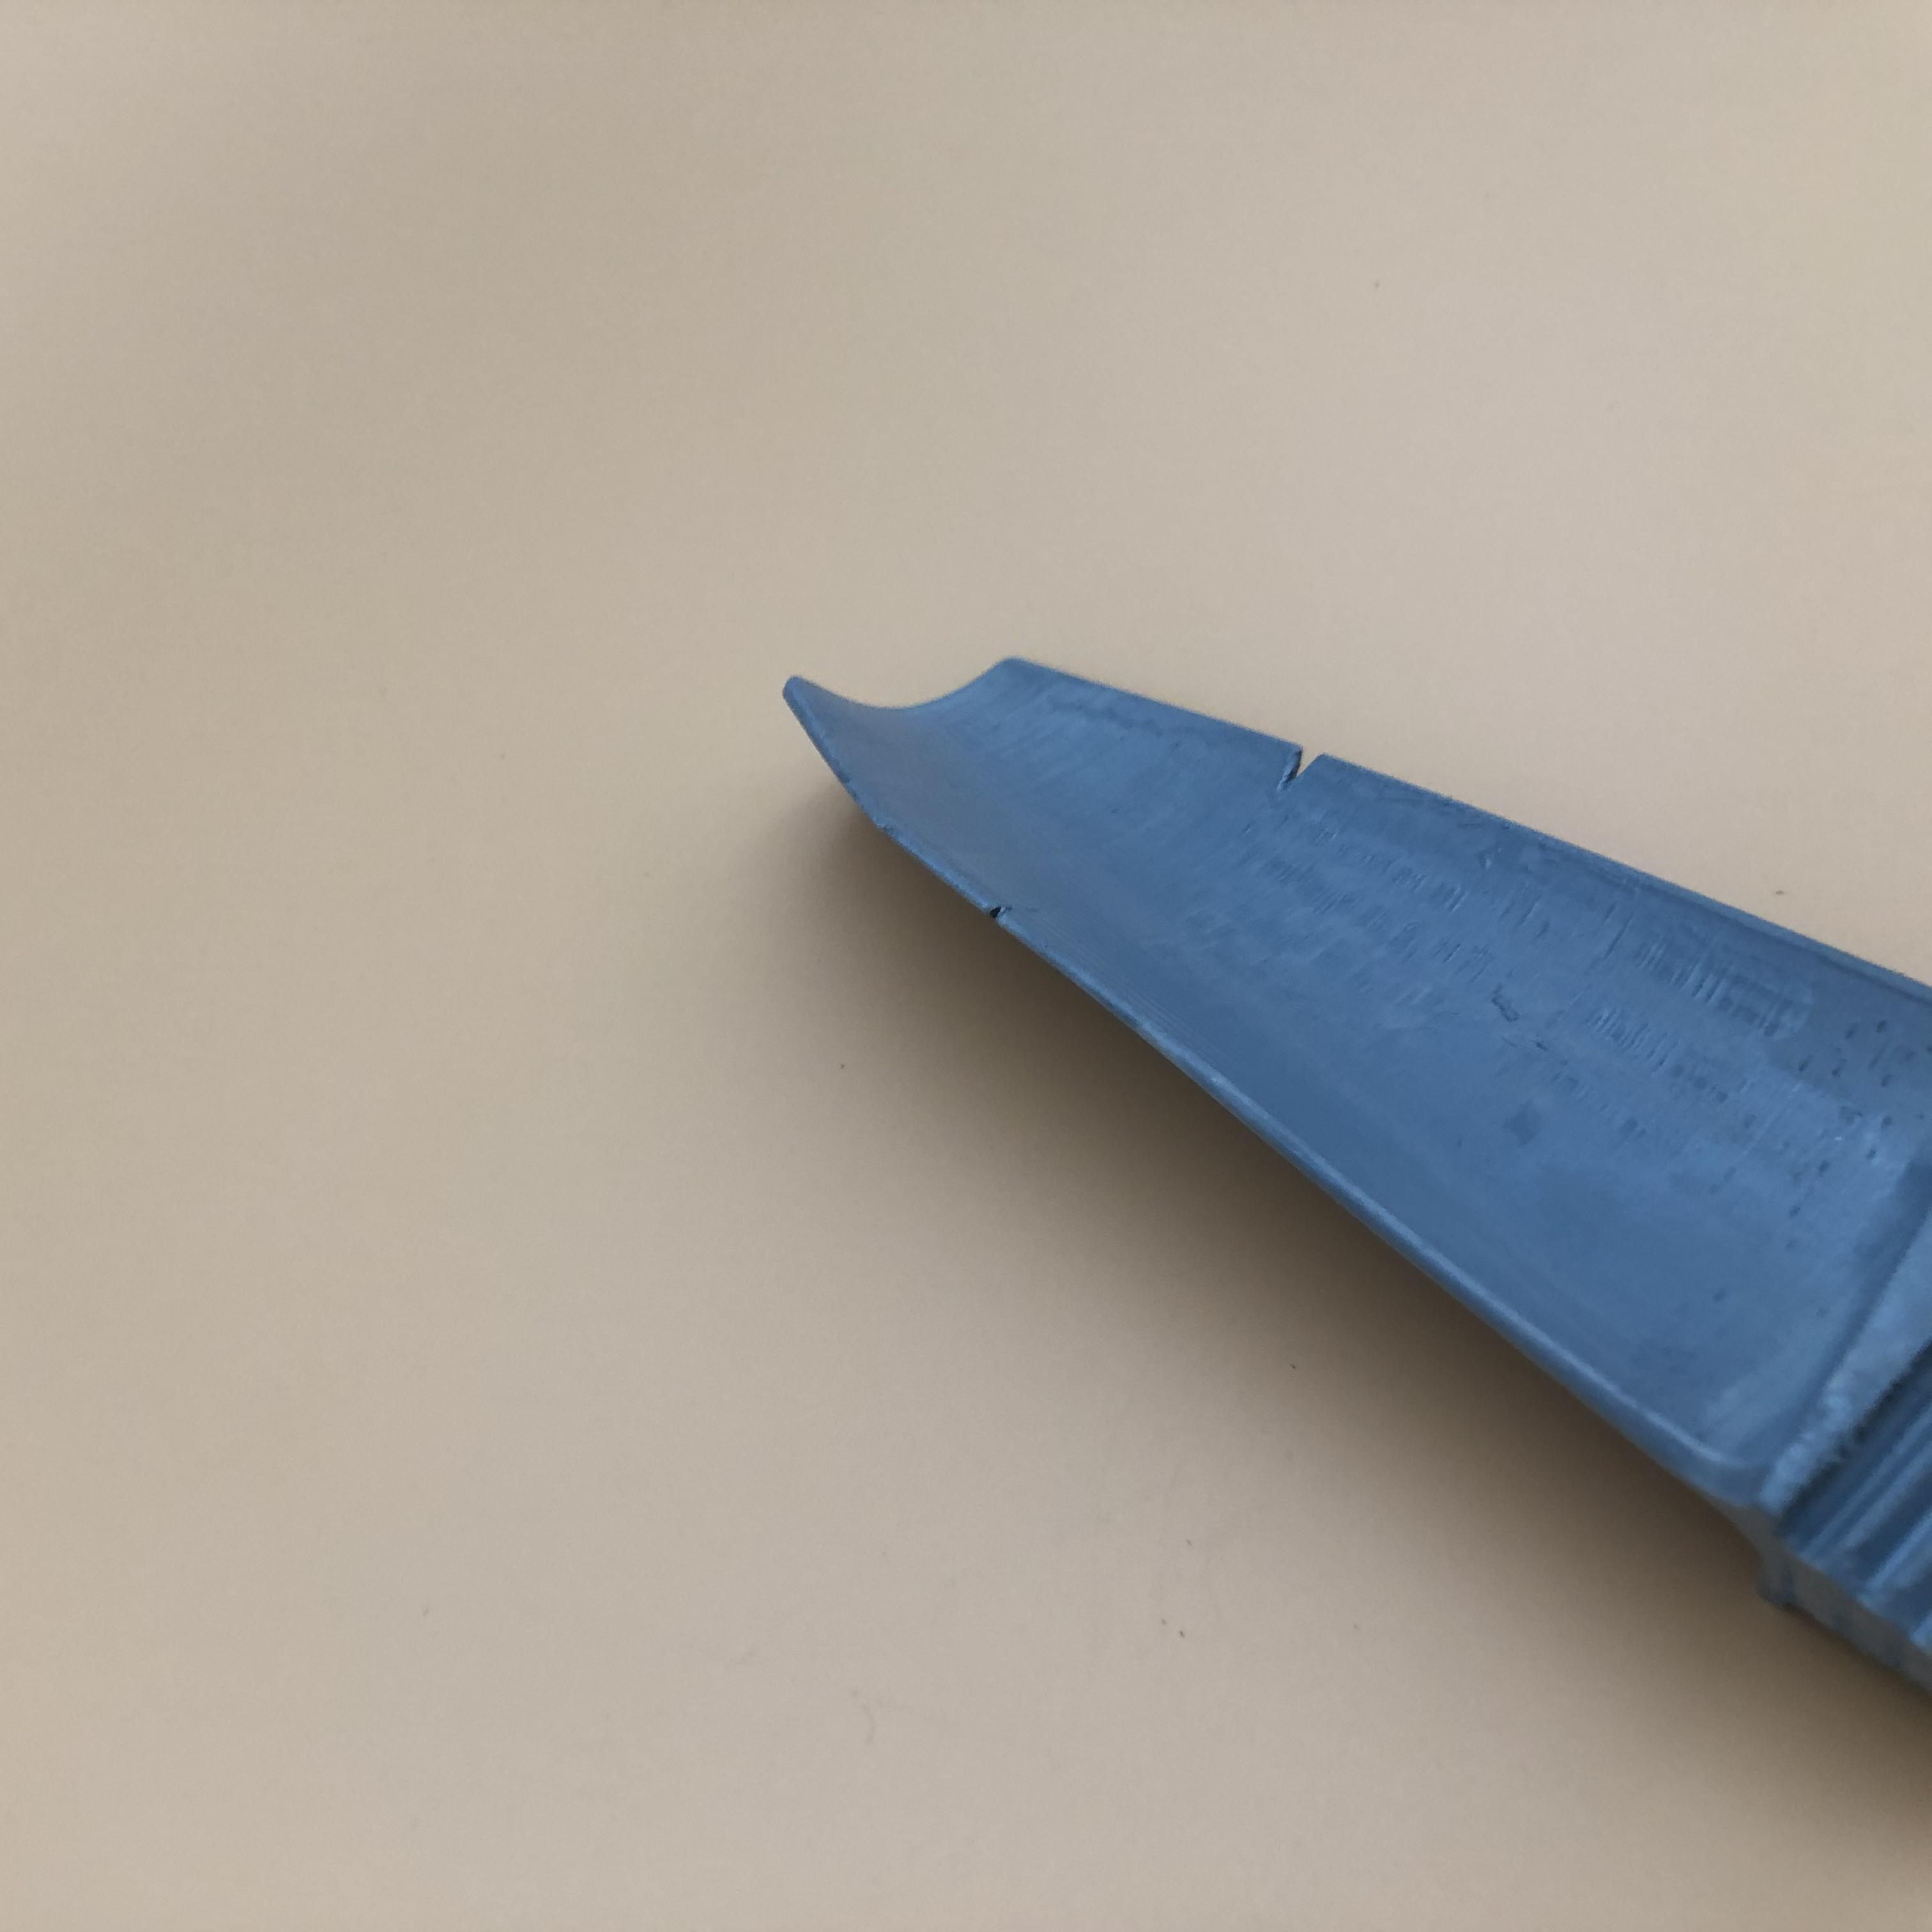groove: (1274, 732, 1345, 789), (978, 897, 1028, 927)
